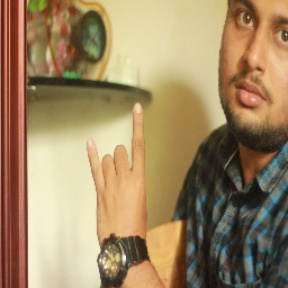V: (73, 101, 169, 249)
